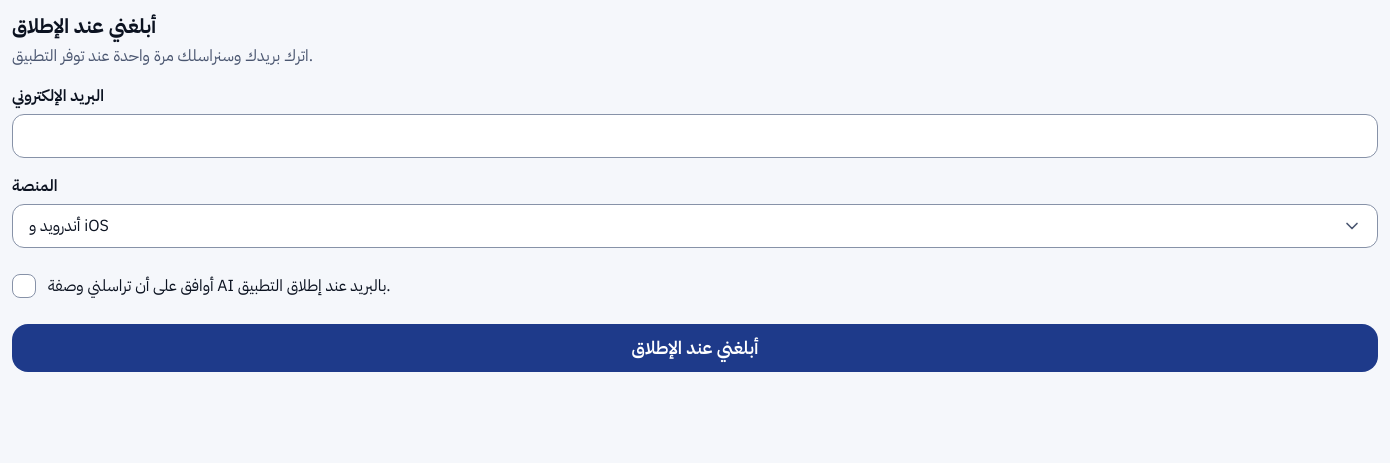
AppWaitlistForm › keeps the form and shows an error on a network failure
This screenshot has width=1390, height=463.
Type "sara@example.com" into the field labelled "البريد الإلكتروني".
click(695, 136); type("sara@example.com")  # box [12, 114, 1378, 158]
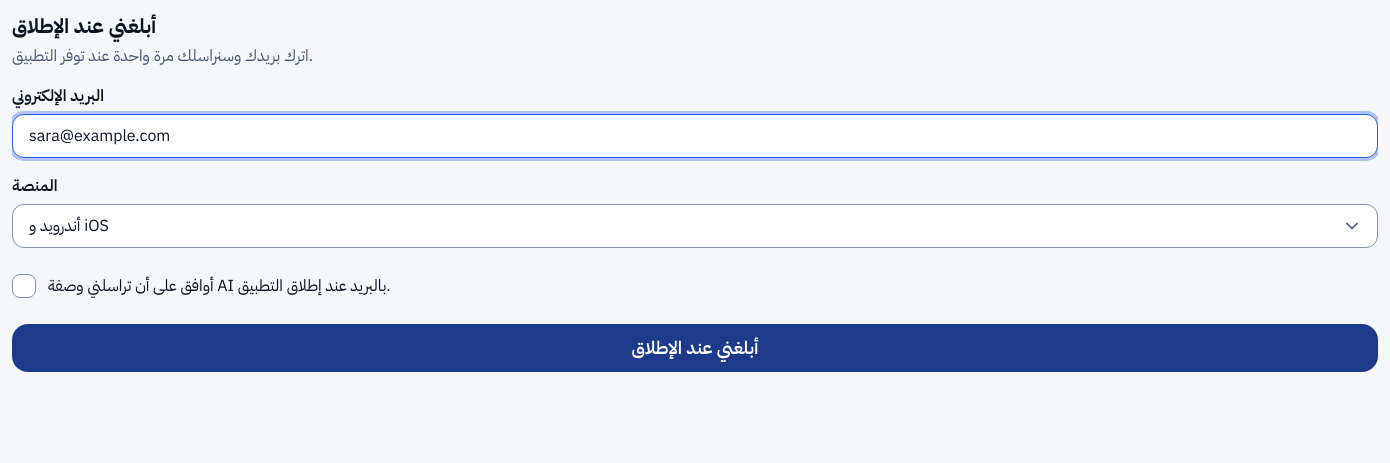
Select "iOS" in the dropdown at (695,226), box [12, 204, 1378, 248]
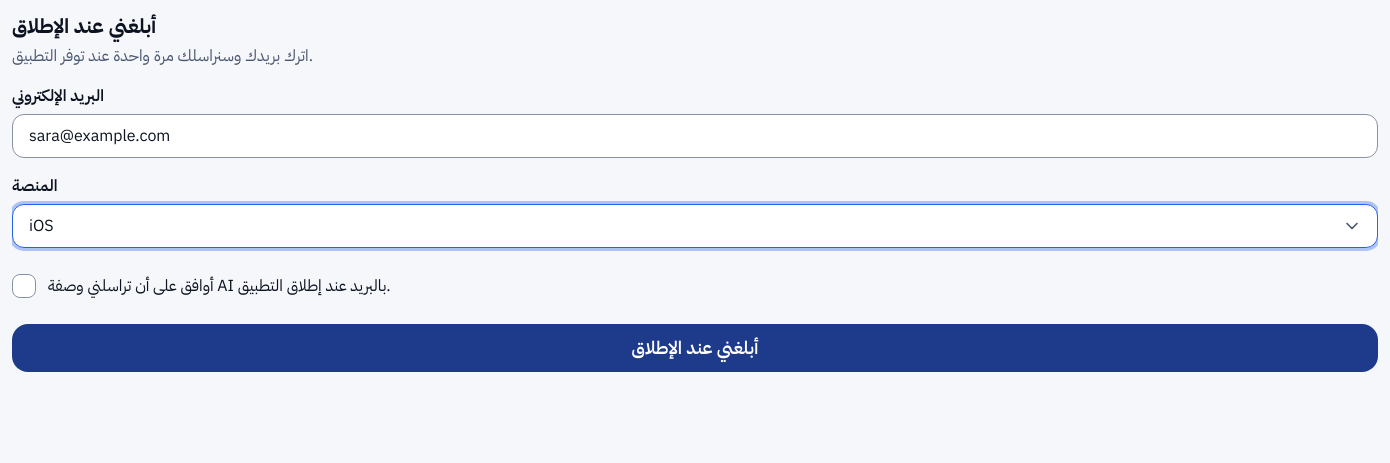
Click the checkbox.
click(24, 286)  # box [12, 274, 36, 298]
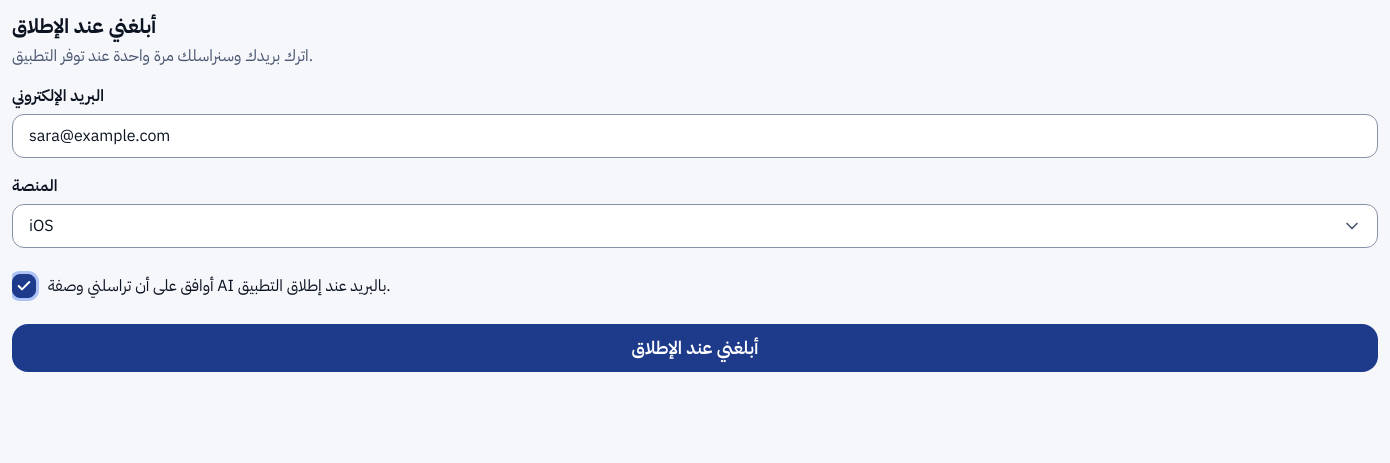
Click the button "أبلغني عند الإطلاق".
click(695, 348)  # box [12, 324, 1378, 372]
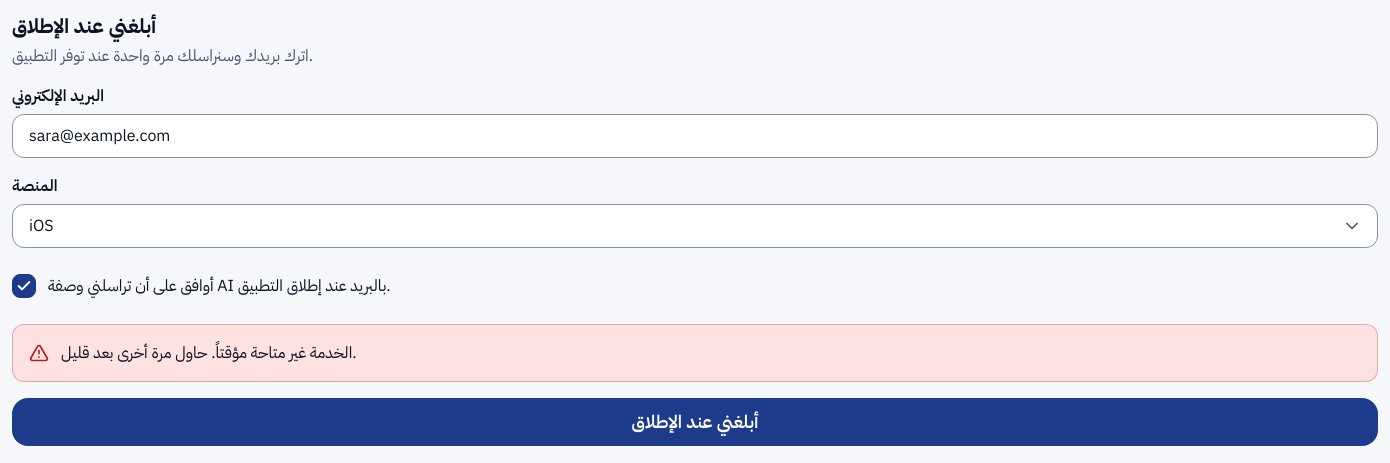
Expected: the button "أبلغني عند الإطلاق" is shown, [12, 398, 1378, 446]
Expected: the message "الخدمة غير متاحة مؤقتاً. حاول مرة أخرى بعد قليل." is shown, [12, 324, 1378, 382]
